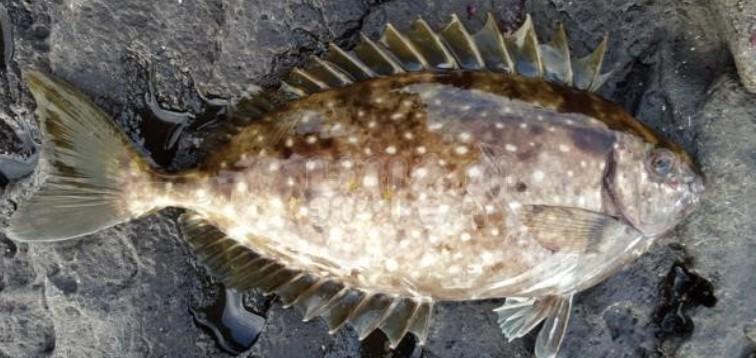fish: (7, 13, 703, 357)
